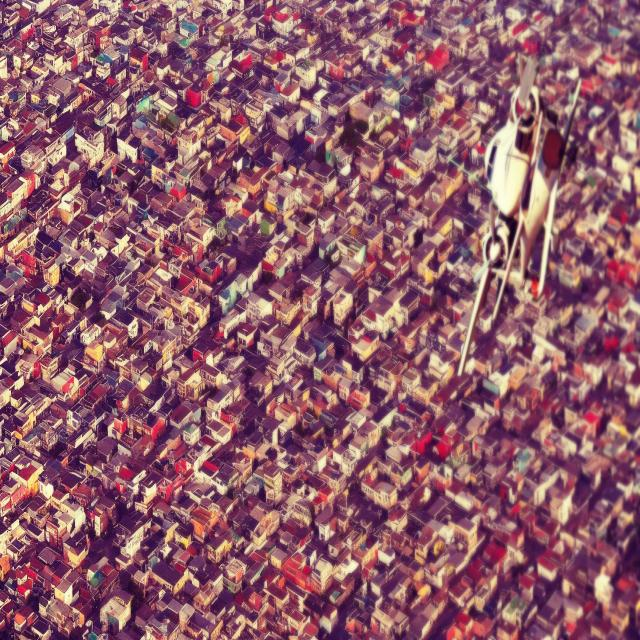airplane: (456, 51, 582, 377)
